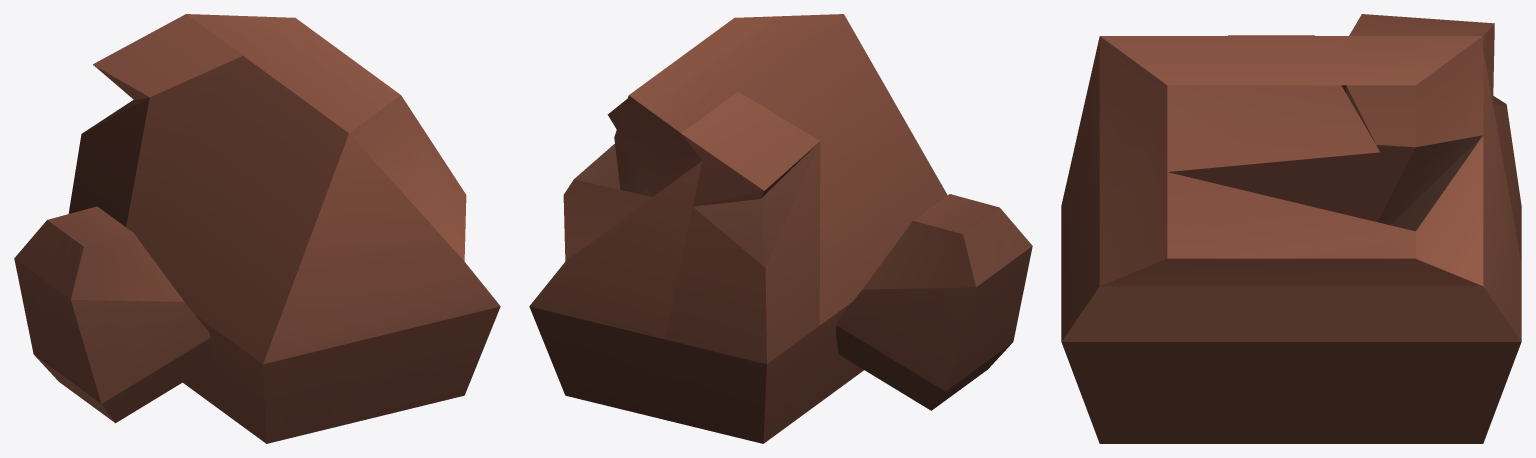
Rendered from rockSmall.fbx.
3 renders of one model, left to right at view 1: azimuth 30°, elevation 25°; view 2: azimuth 150°, elevation 25°; view 3: azimuth 270°, elevation 25°, orthographic. The views are drawn at different scales.
Parts seen in each view (by area): view 1: polySurface3; view 2: polySurface3; view 3: polySurface3.
Part boxes in pixels (x1,y1,x2,y2): polySurface3: (14, 14, 500, 443); polySurface3: (529, 14, 1032, 443); polySurface3: (1061, 14, 1521, 443).
Size of the model in its own units: 1.34 by 0.9833 by 1.2.
